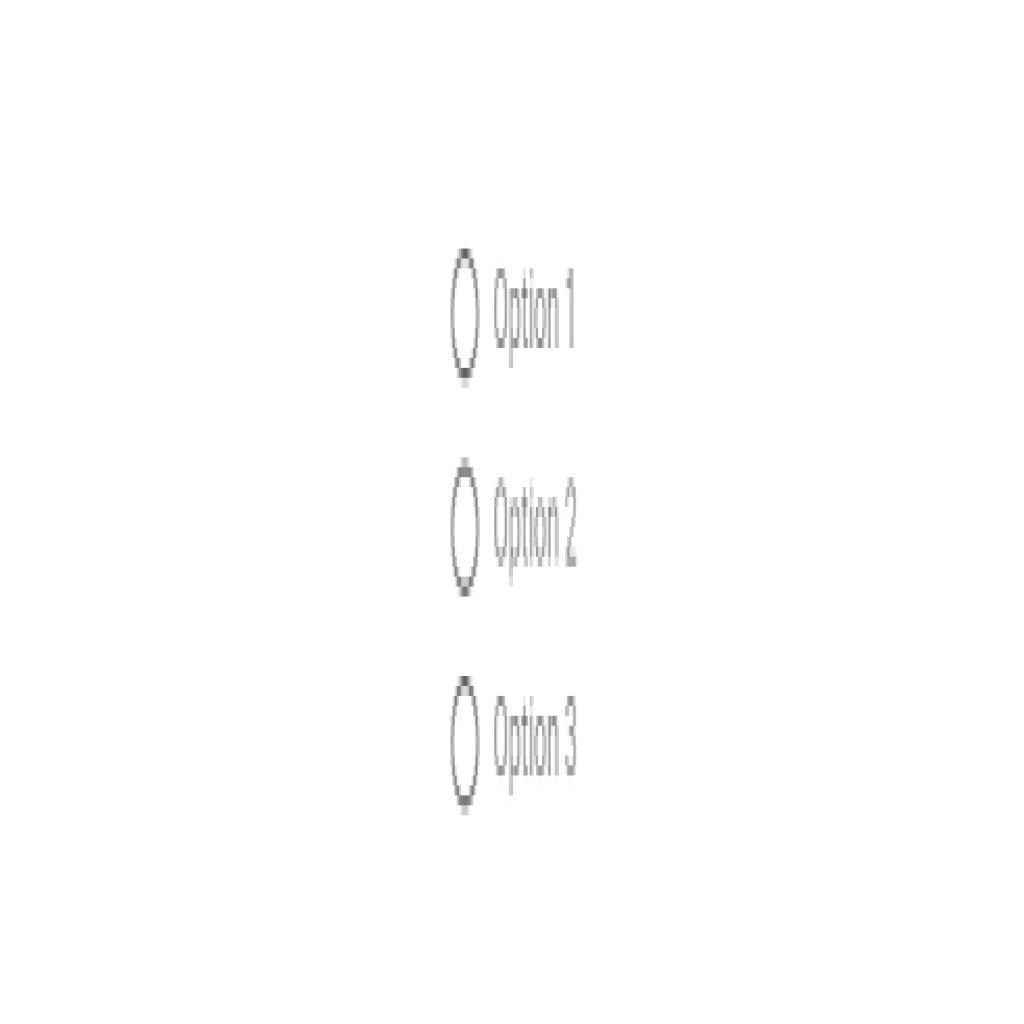radio: (447, 455, 487, 609), (446, 667, 486, 818), (448, 240, 484, 386), (484, 837, 486, 840)
